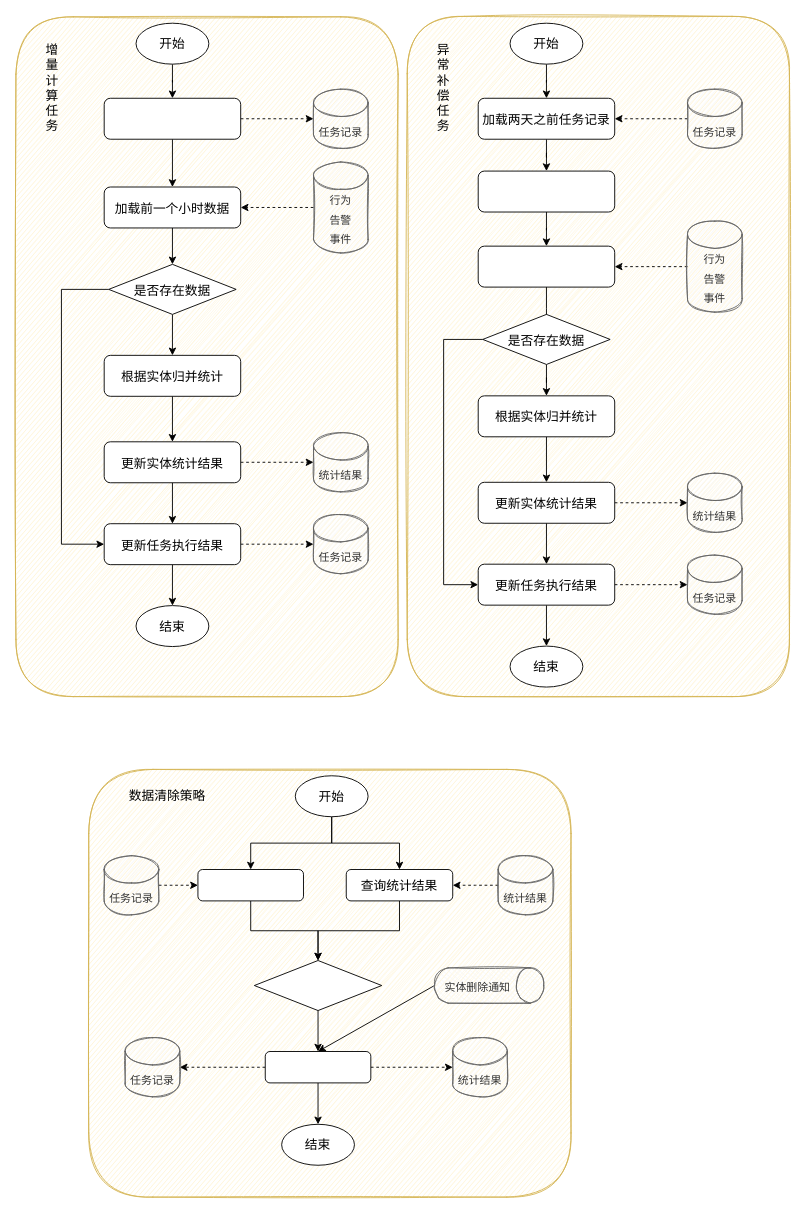
This 805x1213 diagram has some shape labels left out. Here are the shapes that lost their labels. From the top down, the centre of each, then its label:
pixel 172 118: 创建任务执行记录
pixel 546 191: 计算失败或丢失的任务
pixel 546 266: 选择任务&查询数据
pixel 250 885: 查询任务记录
pixel 317 985: 数据是否过期
pixel 317 1067: 过期数据清除
